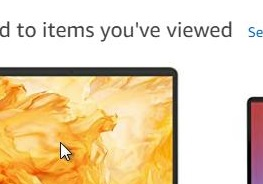cursor: (58, 140, 73, 163)
